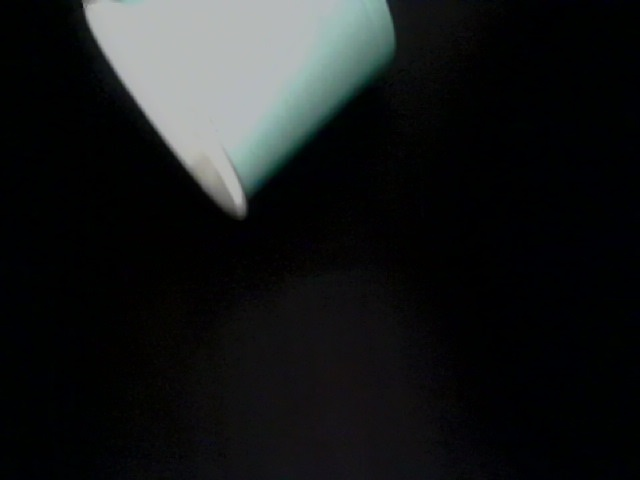CYLJ: (244, 123, 359, 223)
